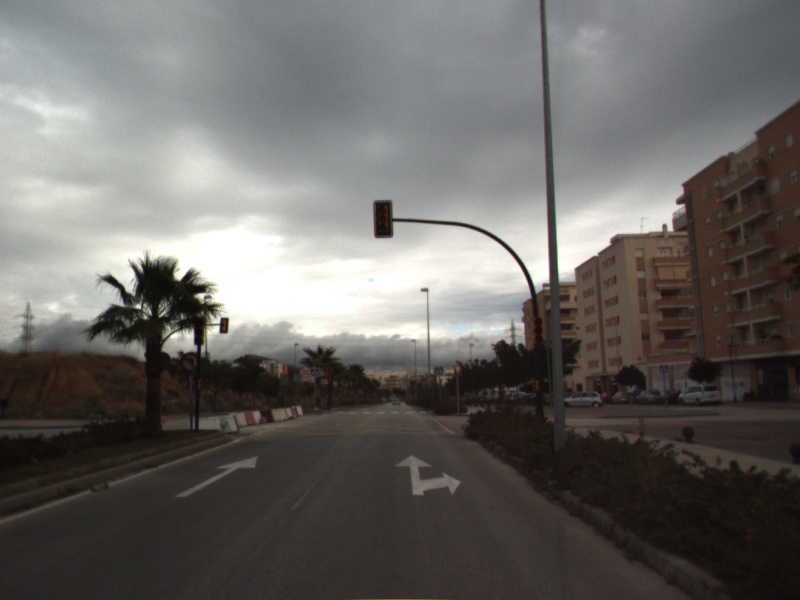STRAIGHT: (173, 454, 259, 499)
STRAIGHT_RIGHT: (393, 453, 463, 497)
